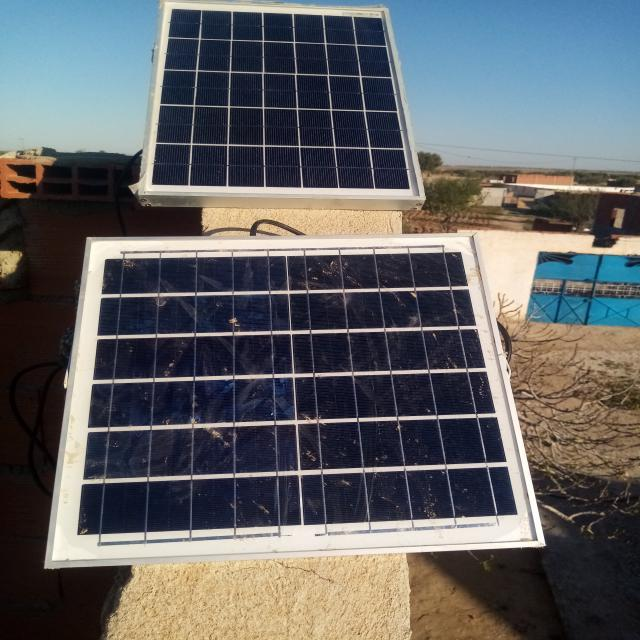faulty: (47, 238, 542, 565)
no faulty: (142, 0, 423, 197)
